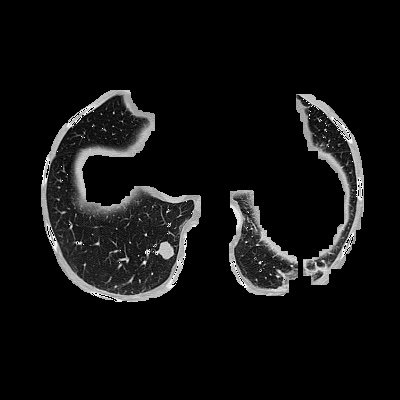PN: (158, 242, 174, 258)
